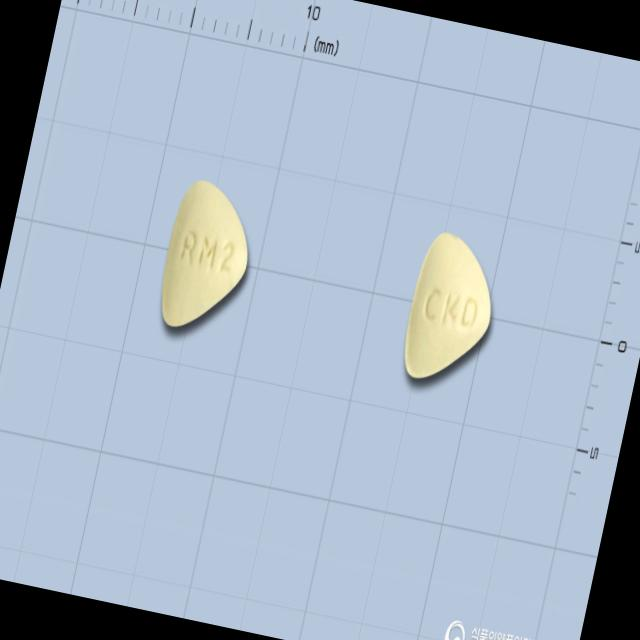Leflunomide Myungmoon -20mg: (396, 227, 507, 391), (152, 176, 262, 340)
